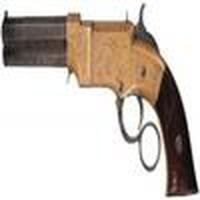gun: (2, 11, 199, 197)
